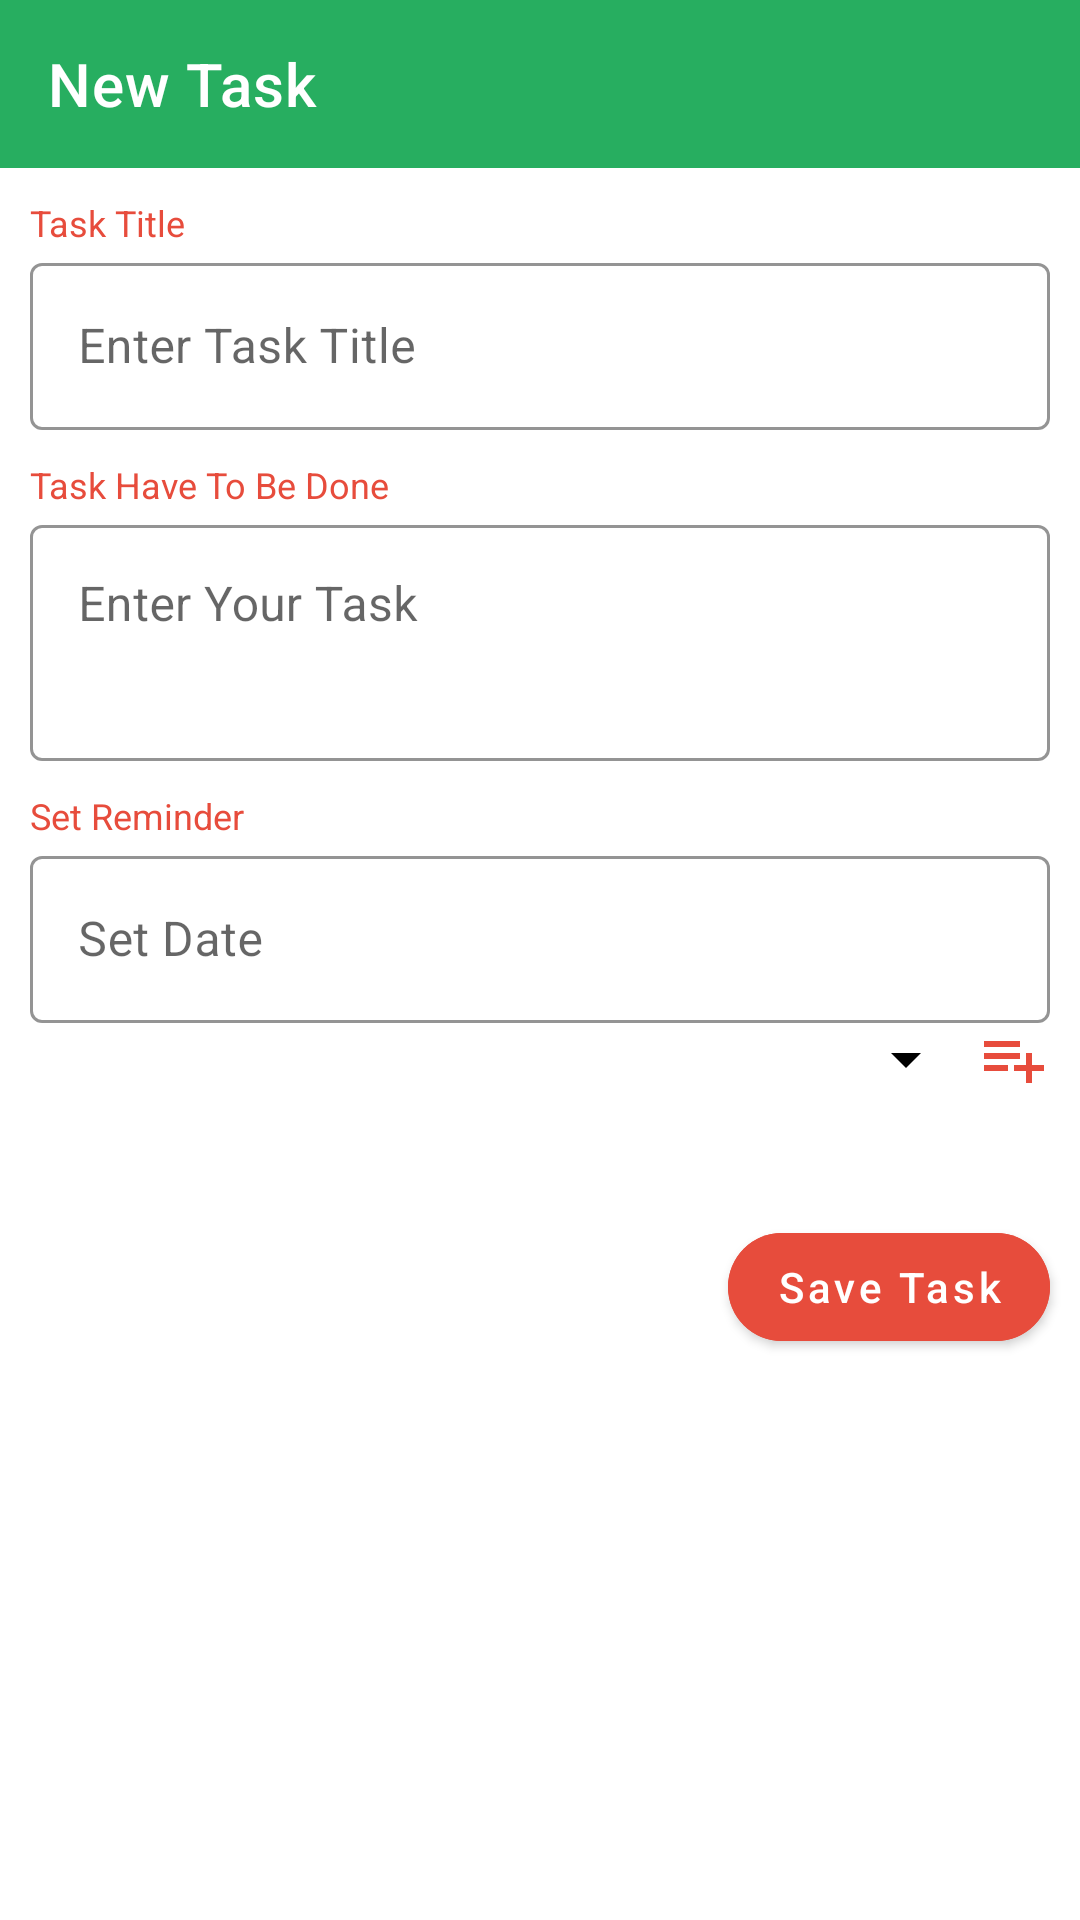

Locate icon controls on the screen. Image size 1080 x 1920, boxes as bbox(x1, y1, x2, y2).
playlist add: bbox(984, 1041, 1044, 1083)
